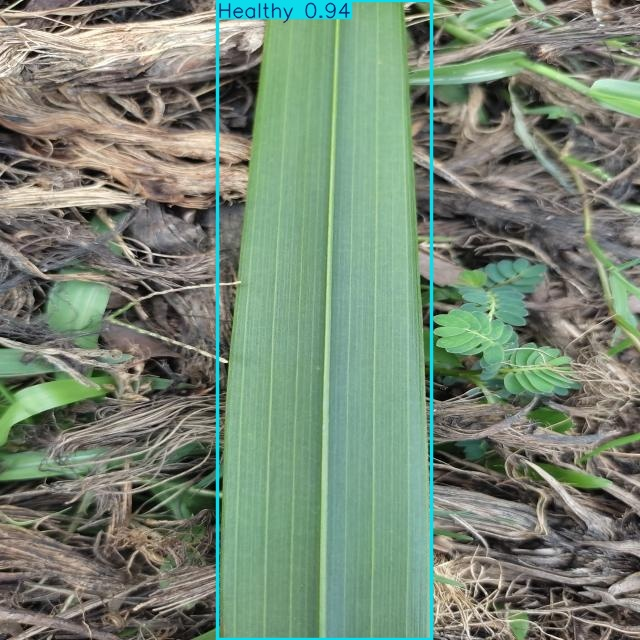Healthy: (218, 0, 432, 640)
